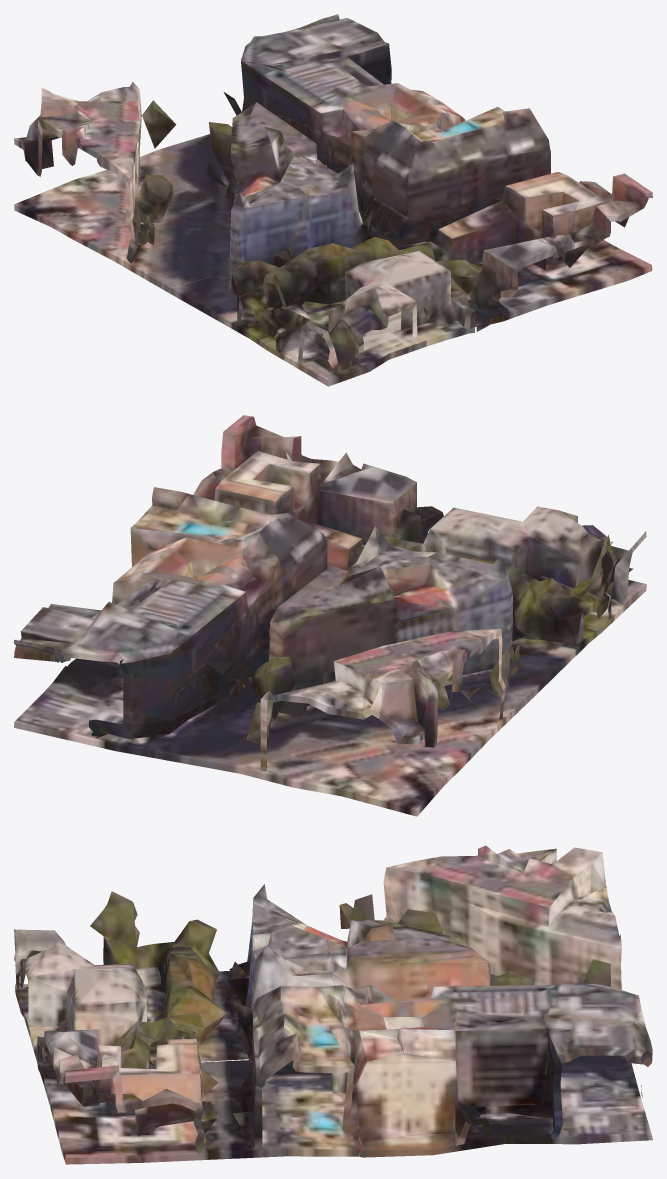
3 renders of one model, top to bottom at view 1: azimuth 30°, elevation 25°; view 2: azimuth 150°, elevation 25°; view 3: azimuth 270°, elevation 25°, orthographic. The views are drawn at different scales.
Parts seen in each view (by area): view 1: Mesh_0; view 2: Mesh_0; view 3: Mesh_0.
Part boxes in pixels (x1,y1,x2,y2): Mesh_0: (14,14,652,386); Mesh_0: (14,415,646,816); Mesh_0: (14,845,652,1164).
Bounding box in the file's own units: 133 × 36.95 × 165.
1 material, 1 textured.
